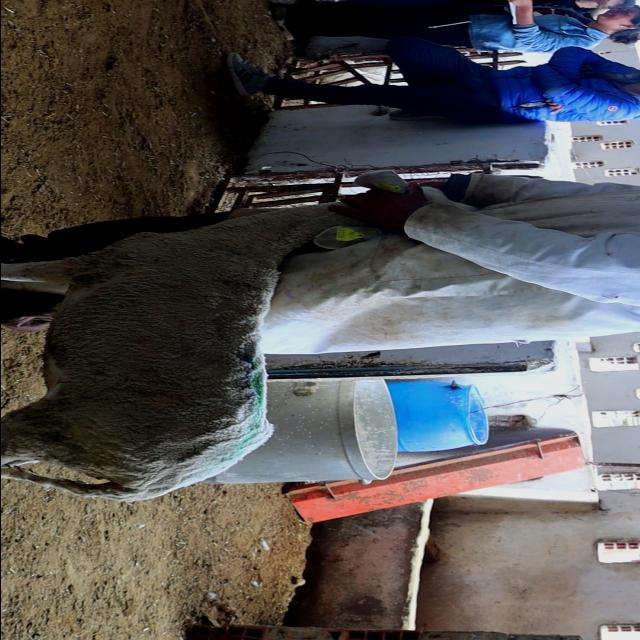Score_1: (1, 206, 380, 502)
